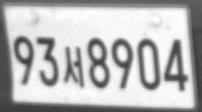0: (136, 37, 161, 90)
3: (36, 36, 59, 87)
4: (163, 38, 189, 92)
8: (86, 36, 111, 89)
9: (110, 37, 134, 89), (13, 34, 35, 85)
서: (63, 45, 85, 87)
